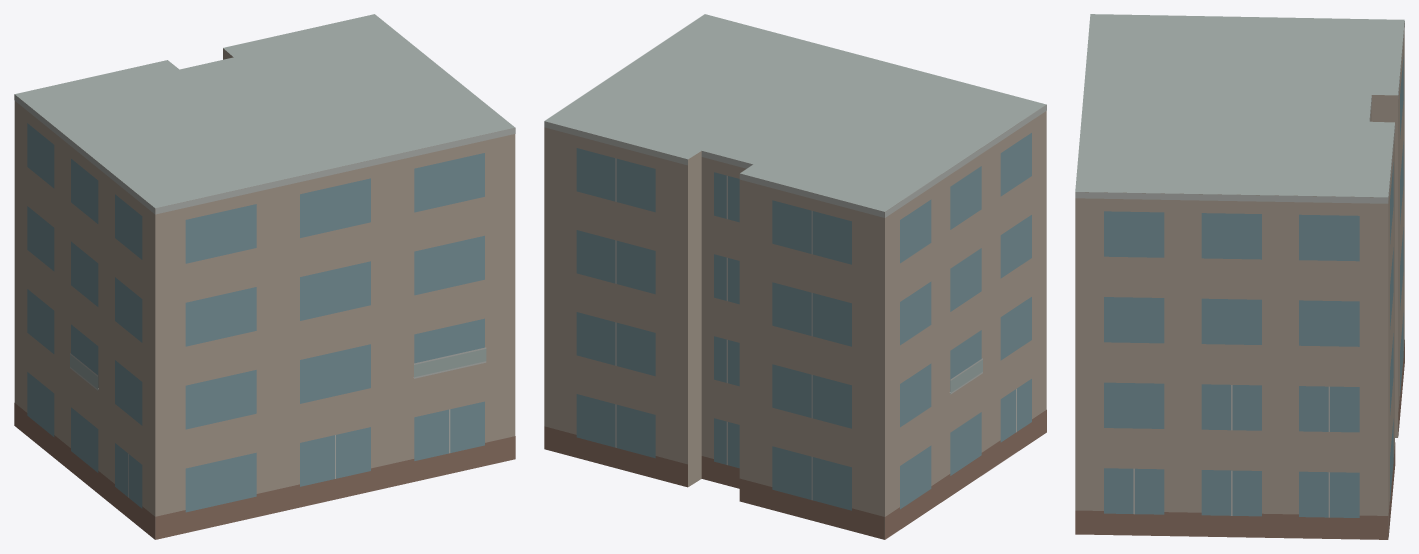
The model's file is survey-upis-32653448.glb.
3 renders of one model, left to right at view 1: azimuth 30°, elevation 25°; view 2: azimuth 150°, elevation 25°; view 3: azimuth 270°, elevation 25°, orthographic. The views are drawn at different scales.
Parts seen in each view (by area): view 1: survey-upis-32653448.tmp; view 2: survey-upis-32653448.tmp; view 3: survey-upis-32653448.tmp.
Part boxes in pixels (x1,y1,x2,y2): survey-upis-32653448.tmp: [14, 14, 515, 539]; survey-upis-32653448.tmp: [544, 14, 1046, 539]; survey-upis-32653448.tmp: [1075, 14, 1404, 539].
Size of the model in its own units: 14.94 by 13 by 11.35.
